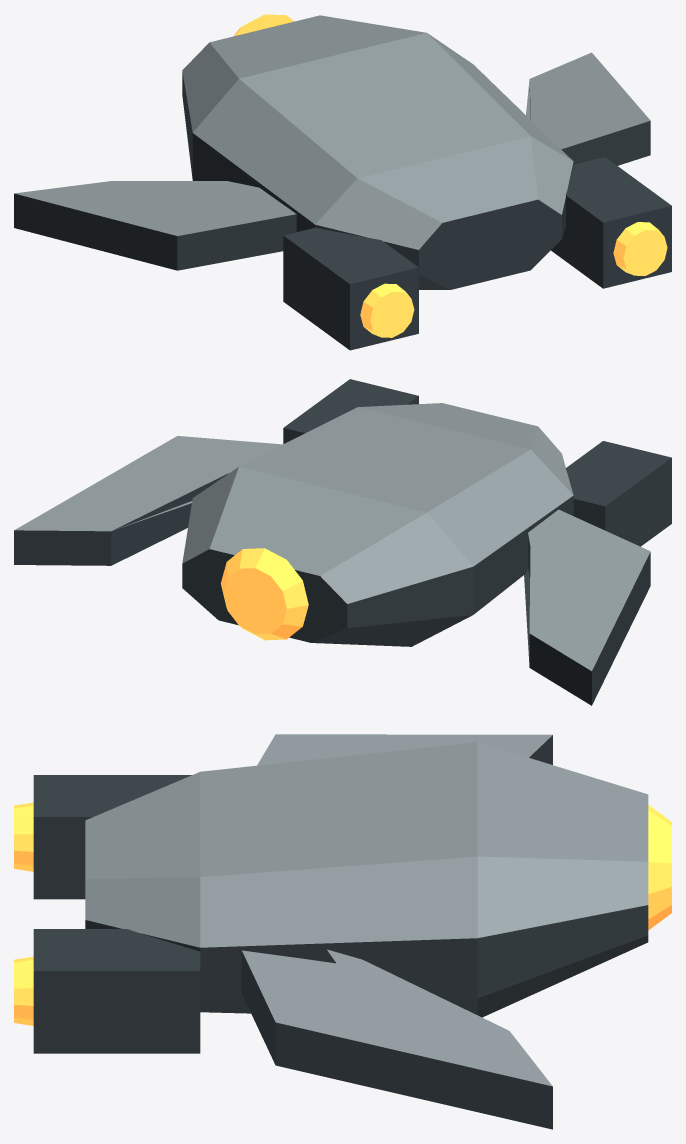
Rendered from hunter.glb.
3 views of the same model, one above another, from view 1: azimuth 30°, elevation 25°; view 2: azimuth 150°, elevation 25°; view 3: azimuth 270°, elevation 25° (orthographic). The views are drawn at different scales.
Visible parts, largest first — view 1: hunter; view 2: hunter; view 3: hunter.
Boxes of the visible parts, left/top/right/bottom form: hunter: left=14, top=14, right=671, bottom=350; hunter: left=14, top=379, right=671, bottom=705; hunter: left=14, top=734, right=671, bottom=1129.
Bounding box in the file's own units: 2.1 × 0.48 × 1.66.
